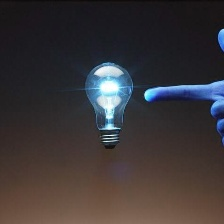light_bulb: (80, 57, 137, 152)
